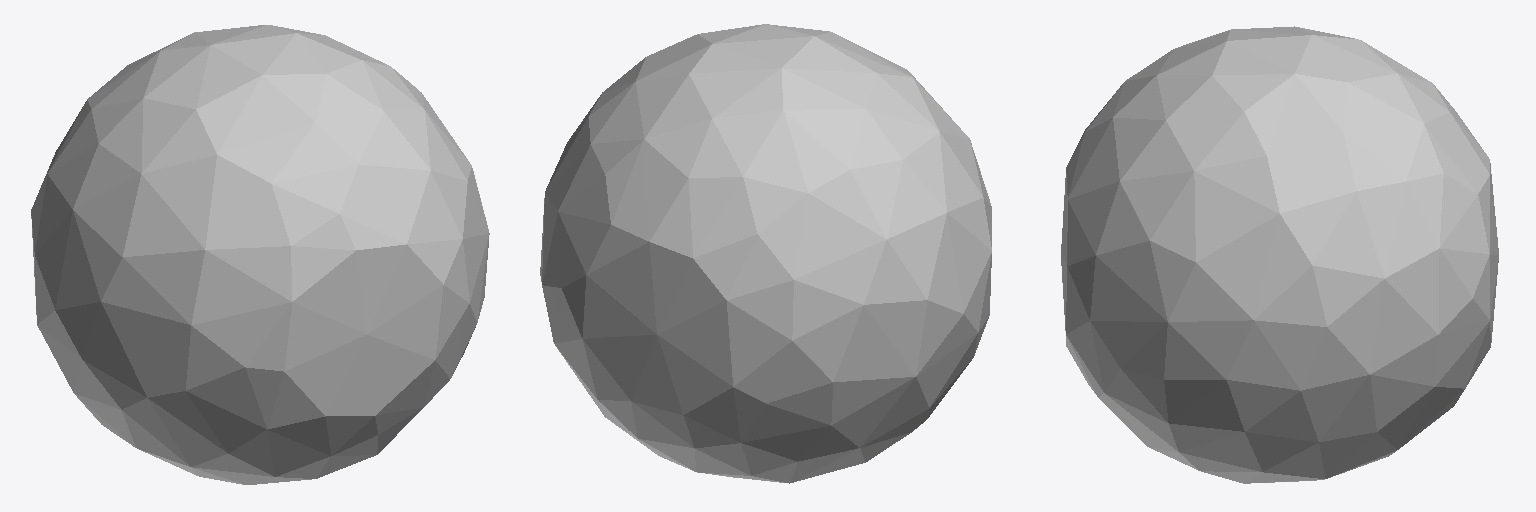
File: eyeLite.obj
3 renders of one model, left to right at view 1: azimuth 30°, elevation 25°; view 2: azimuth 150°, elevation 25°; view 3: azimuth 270°, elevation 25°, orthographic.
Parts seen in each view (by area): view 1: Eye; view 2: Eye; view 3: Eye.
Part boxes in pixels (bbox=[...]): Eye: bbox=[31, 25, 489, 484]; Eye: bbox=[540, 24, 991, 483]; Eye: bbox=[1061, 26, 1498, 483].
Bounding box in the file's own units: 0.0159 × 0.0158 × 0.0152.